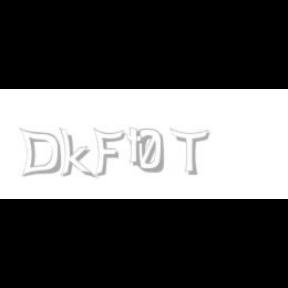0: (136, 128, 168, 174)
D: (19, 128, 62, 178)
F: (93, 128, 125, 178)
T: (169, 128, 209, 176)
k: (59, 128, 97, 180)
t: (126, 128, 148, 168)
